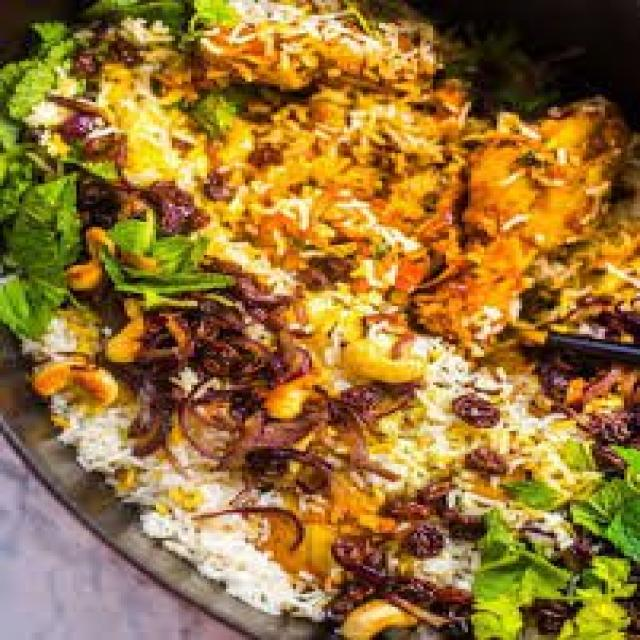chicken biryani: (2, 3, 628, 640)
